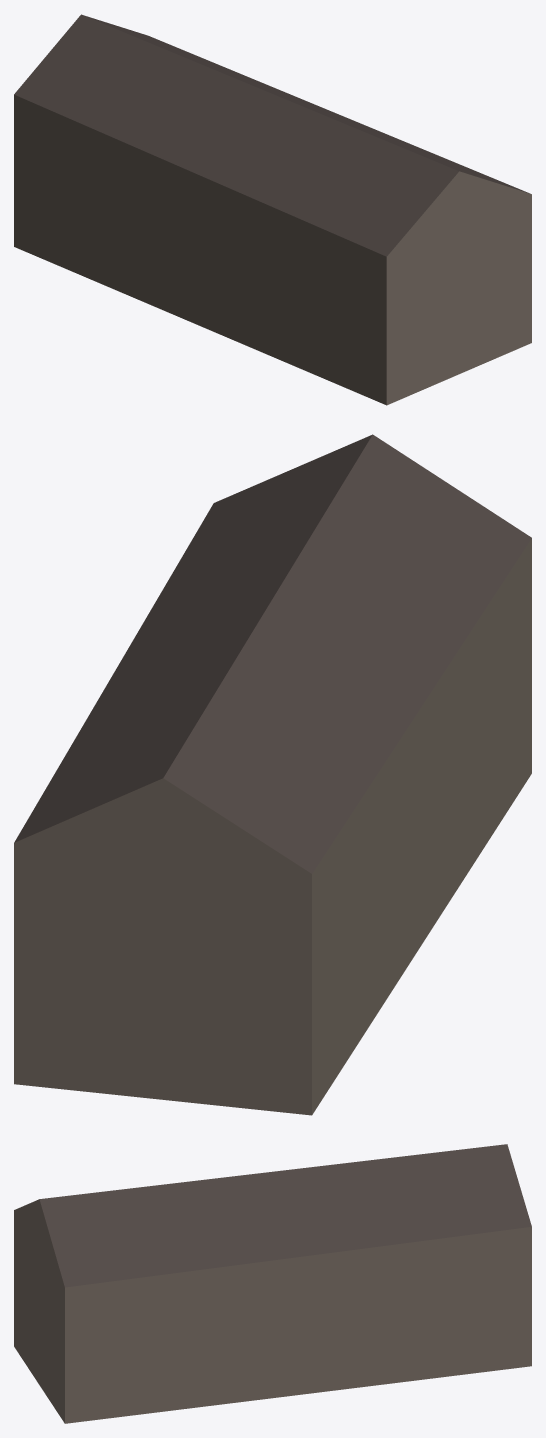
3 views of the same model, one above another, from view 1: azimuth 30°, elevation 25°; view 2: azimuth 150°, elevation 25°; view 3: azimuth 270°, elevation 25° (orthographic). The views are drawn at different scales.
Visible parts, largest first — view 1: HP-w373833606; view 2: HP-w373833606; view 3: HP-w373833606.
Boxes of the visible parts, x1,y1,x2,y2 form: HP-w373833606: (14,14,531,405); HP-w373833606: (14,434,531,1115); HP-w373833606: (14,1144,531,1423).
Bounding box in the file's own units: 18.37 × 12.28 × 31.
